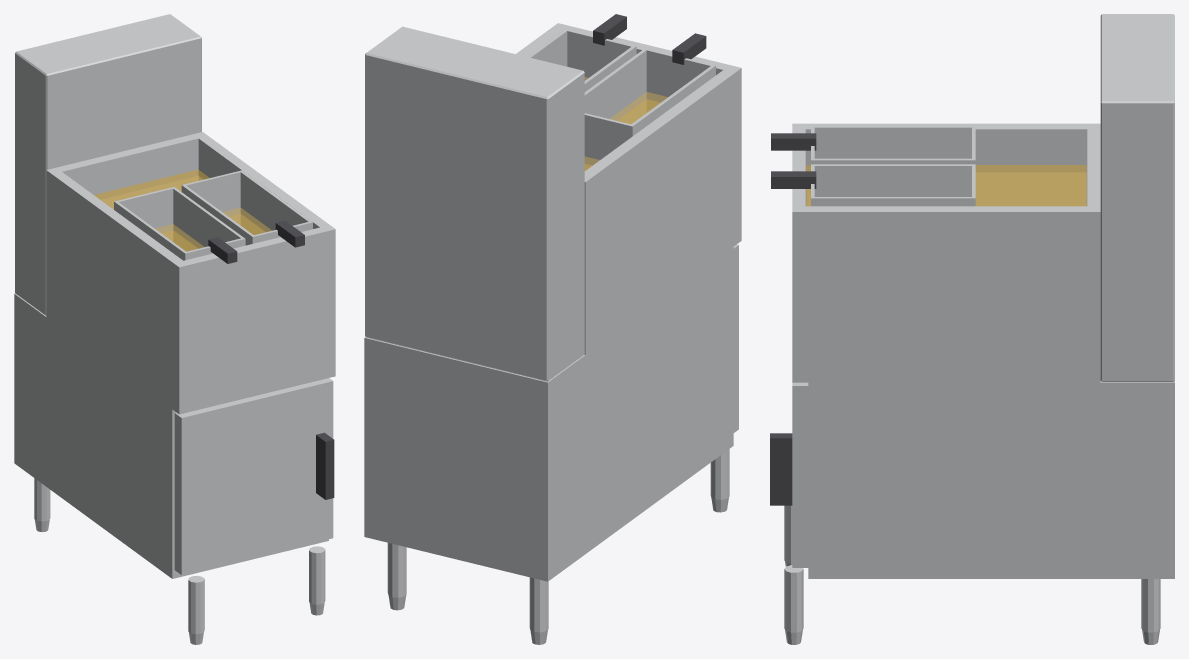
File: NSF-FRYER-TWIN-50LB.glb
3 views of the same model, side by side, from view 1: azimuth 30°, elevation 25°; view 2: azimuth 150°, elevation 25°; view 3: azimuth 270°, elevation 25° (orthographic). The views are drawn at different scales.
Visible parts, largest first — view 1: asset_nsf_fryer_twin_50lb, asset_nsf_fryer_twin_50lb_front_door, asset_nsf_fryer_twin_50lb_basket_left, asset_nsf_fryer_twin_50lb_basket_right; view 2: asset_nsf_fryer_twin_50lb, asset_nsf_fryer_twin_50lb_basket_left, asset_nsf_fryer_twin_50lb_basket_right, asset_nsf_fryer_twin_50lb_front_door; view 3: asset_nsf_fryer_twin_50lb, asset_nsf_fryer_twin_50lb_basket_right, asset_nsf_fryer_twin_50lb_basket_left, asset_nsf_fryer_twin_50lb_front_door.
Part boxes in pixels (bbox=[...]): asset_nsf_fryer_twin_50lb: bbox=[14, 14, 335, 644]; asset_nsf_fryer_twin_50lb_front_door: bbox=[174, 378, 334, 574]; asset_nsf_fryer_twin_50lb_basket_left: bbox=[114, 187, 245, 263]; asset_nsf_fryer_twin_50lb_basket_right: bbox=[181, 170, 312, 247]; asset_nsf_fryer_twin_50lb: bbox=[364, 23, 741, 644]; asset_nsf_fryer_twin_50lb_basket_left: bbox=[584, 33, 715, 170]; asset_nsf_fryer_twin_50lb_basket_right: bbox=[528, 14, 636, 91]; asset_nsf_fryer_twin_50lb_front_door: bbox=[733, 244, 738, 432]; asset_nsf_fryer_twin_50lb: bbox=[784, 14, 1174, 644]; asset_nsf_fryer_twin_50lb_basket_right: bbox=[771, 164, 975, 206]; asset_nsf_fryer_twin_50lb_basket_left: bbox=[771, 126, 975, 164]; asset_nsf_fryer_twin_50lb_front_door: bbox=[770, 382, 808, 567].
Size of the model in its own units: 0.394 by 1.14 by 0.762.
